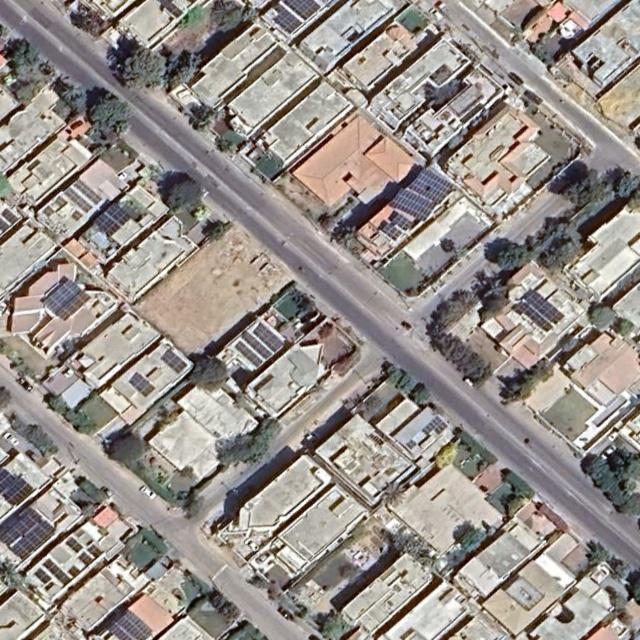solar panel: (0, 502, 58, 564), (42, 275, 91, 323), (408, 167, 454, 207), (521, 287, 565, 327), (390, 187, 437, 223), (0, 464, 35, 509), (513, 300, 553, 337), (94, 201, 131, 239), (109, 609, 153, 640), (267, 2, 302, 35), (239, 331, 273, 362), (252, 323, 284, 353), (63, 186, 94, 216), (234, 340, 265, 370), (281, 0, 321, 23), (43, 558, 72, 587), (127, 372, 157, 400), (421, 415, 449, 444), (73, 179, 103, 206), (160, 348, 188, 376), (32, 568, 56, 591), (382, 221, 403, 242), (392, 213, 412, 232), (0, 206, 18, 226), (66, 537, 84, 555), (88, 544, 104, 560), (79, 551, 94, 567), (67, 565, 81, 579)
